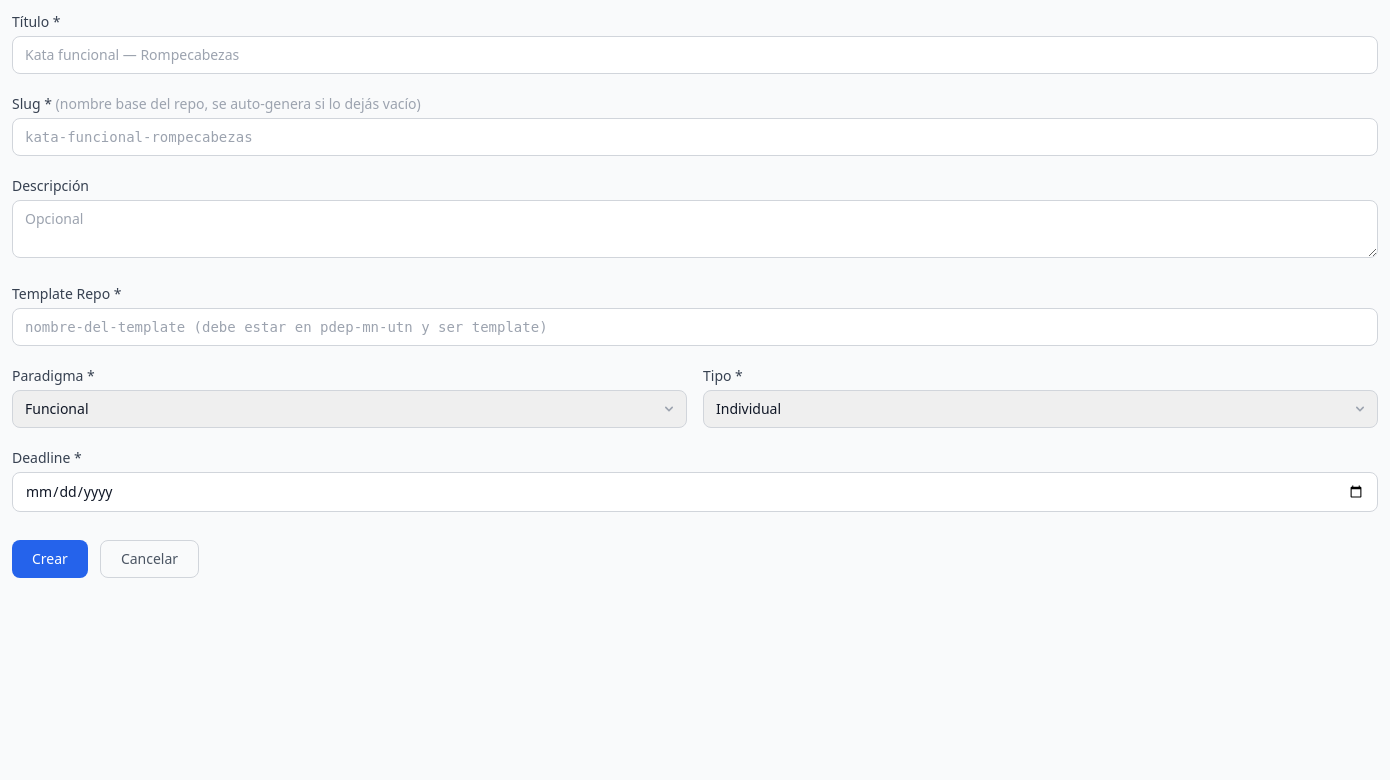
AssignmentForm › campo maxIntegrantes (tipo grupal) › oculta maxIntegrantes al volver a 'individual'
Select "Grupal" in the dropdown named "tipo" below "Tipo *". click: (1040, 409)
box: x1=703 y1=390 x2=1378 y2=428
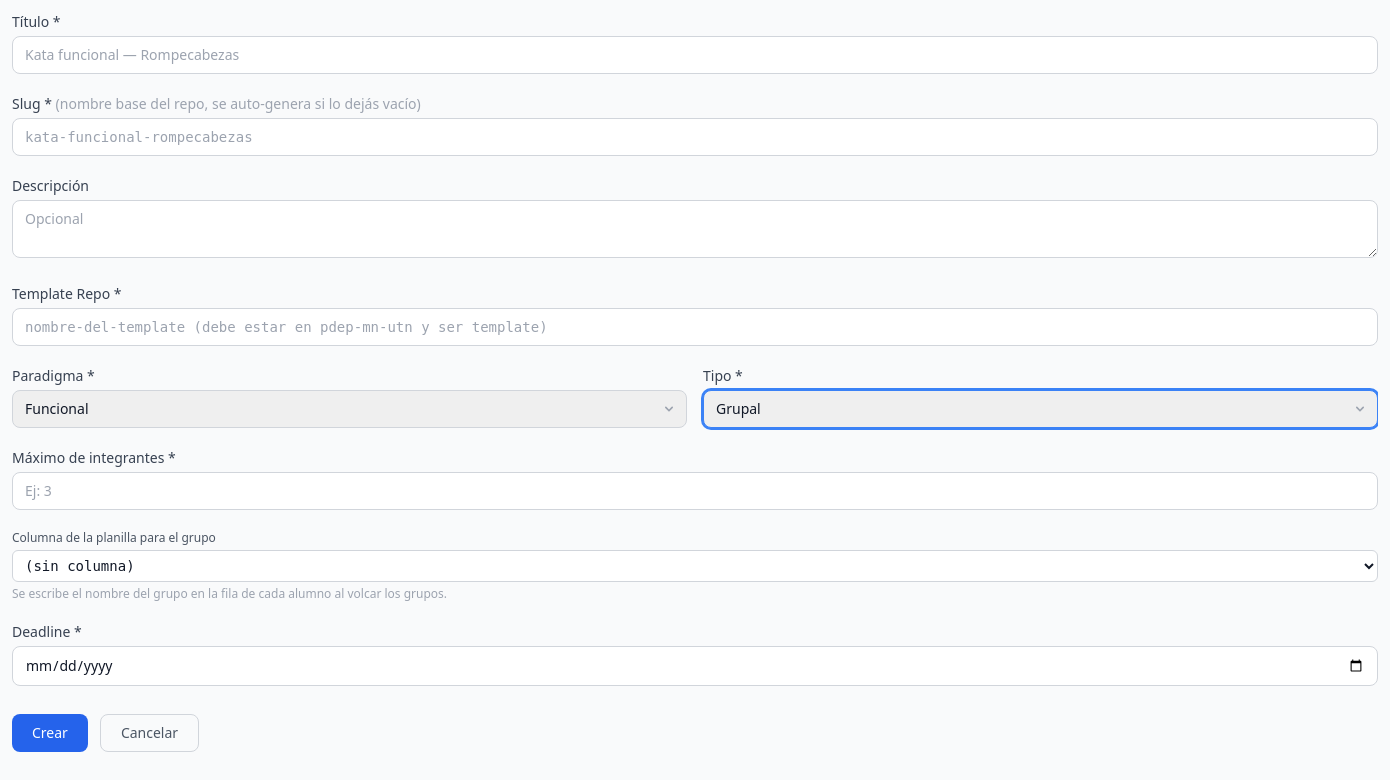
Select "Individual" in the dropdown named "tipo" below "Tipo *". click: (1040, 409)
box: x1=703 y1=390 x2=1378 y2=428
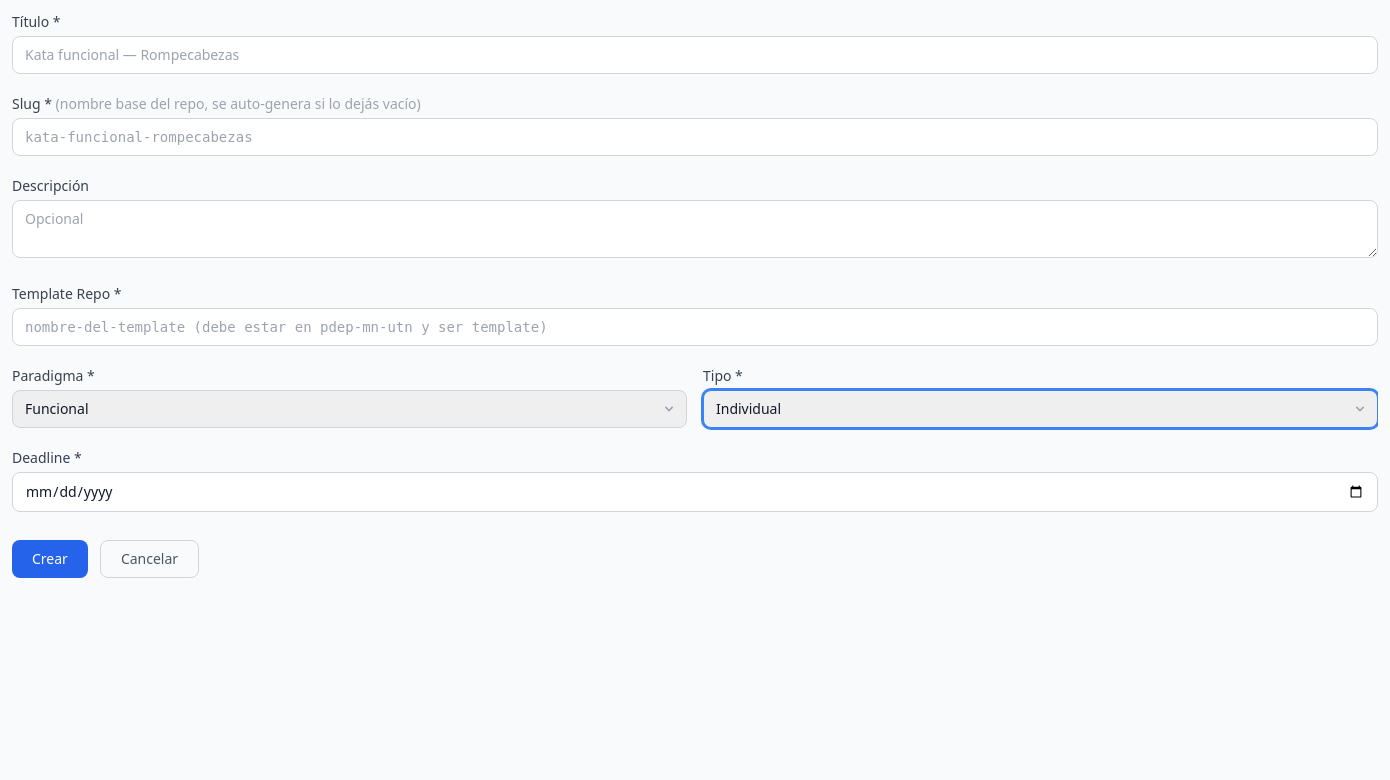
Result: the number field named "maxIntegrantes" is gone
